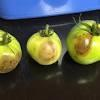tomato early blight: (67, 21, 100, 67), (27, 26, 63, 67), (1, 29, 24, 76)
